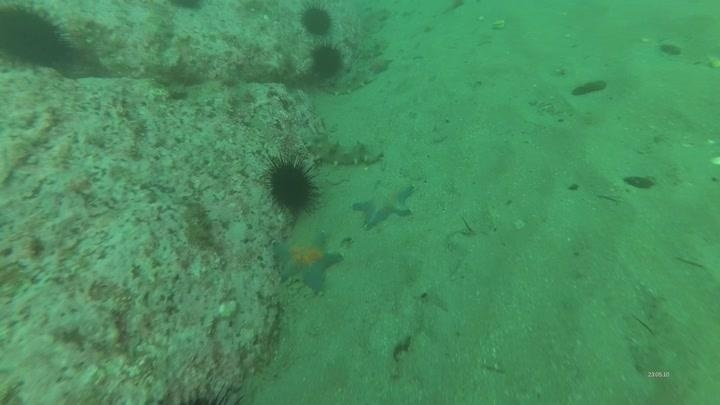echinus: (0, 2, 74, 72), (262, 155, 322, 216), (307, 42, 346, 80), (297, 3, 335, 39)
holothurian: (299, 127, 385, 170), (324, 53, 393, 98)
starfish: (271, 228, 345, 295), (351, 178, 417, 230), (364, 54, 394, 76)
